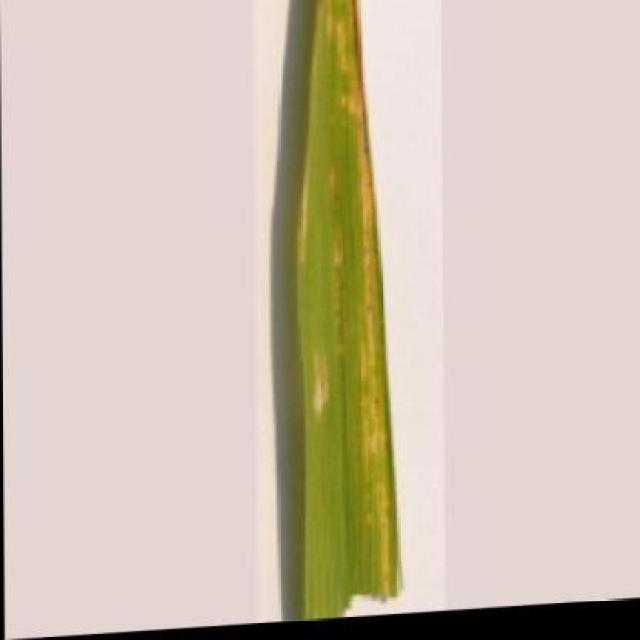Brown_Spot: (284, 0, 404, 625)
